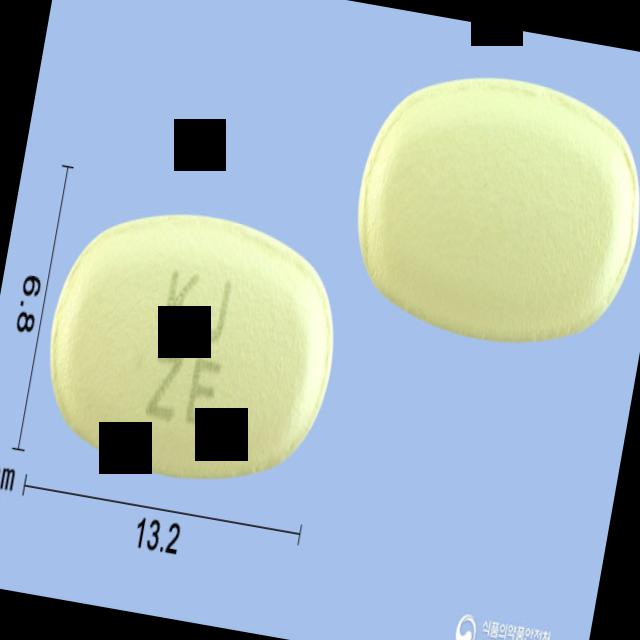Zecla Tab: (29, 190, 354, 500)
